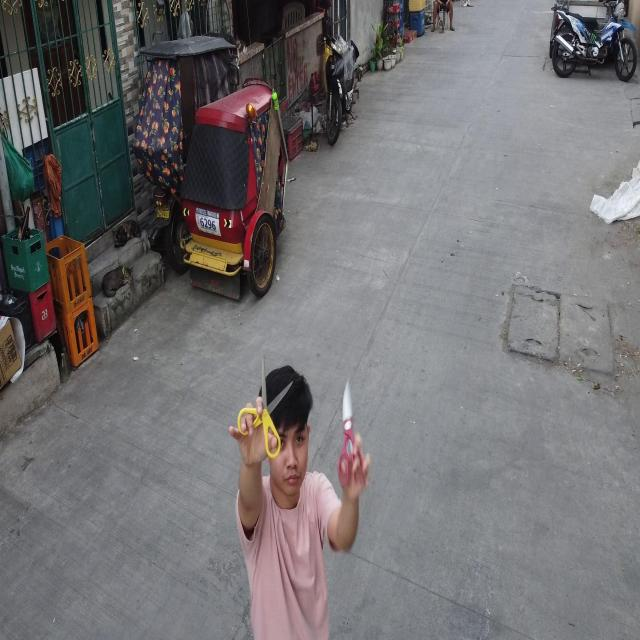scissor: (239, 357, 292, 458)
